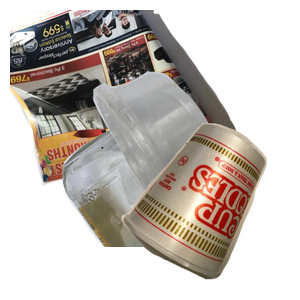glass: (60, 120, 300, 300)
paper: (10, 10, 241, 188)
plastic: (91, 69, 300, 249)
trash: (119, 121, 300, 300)
